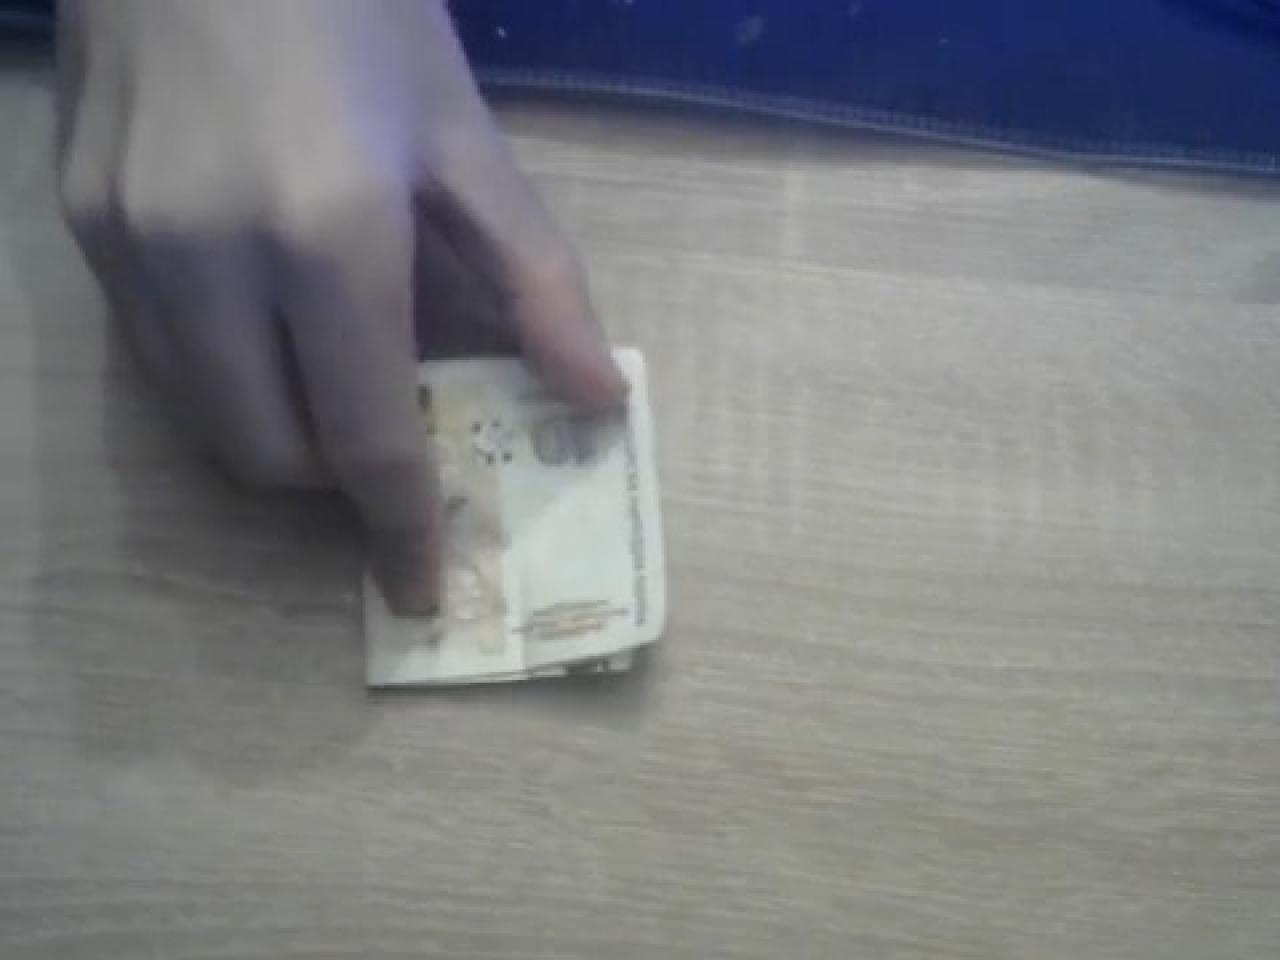10leva: (355, 339, 669, 693)
